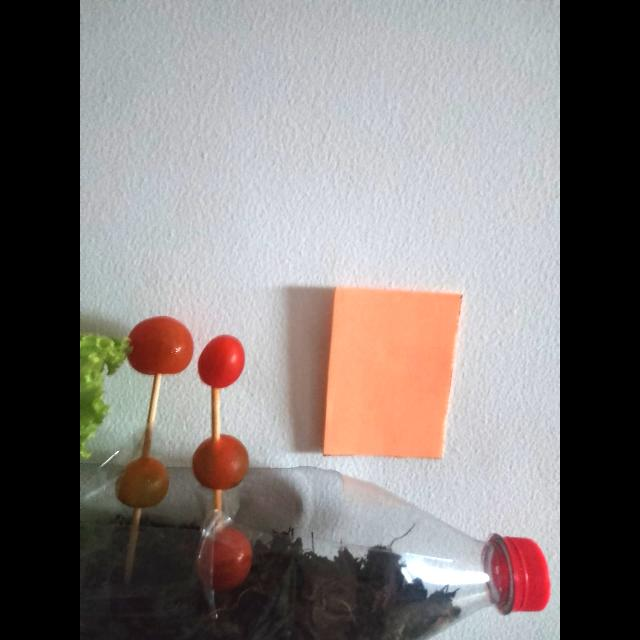card: (323, 288, 461, 458)
fruit_maturation: (197, 526, 252, 590)
fully_grown: (127, 316, 193, 375), (192, 434, 249, 490), (116, 456, 168, 509), (198, 335, 245, 388)
